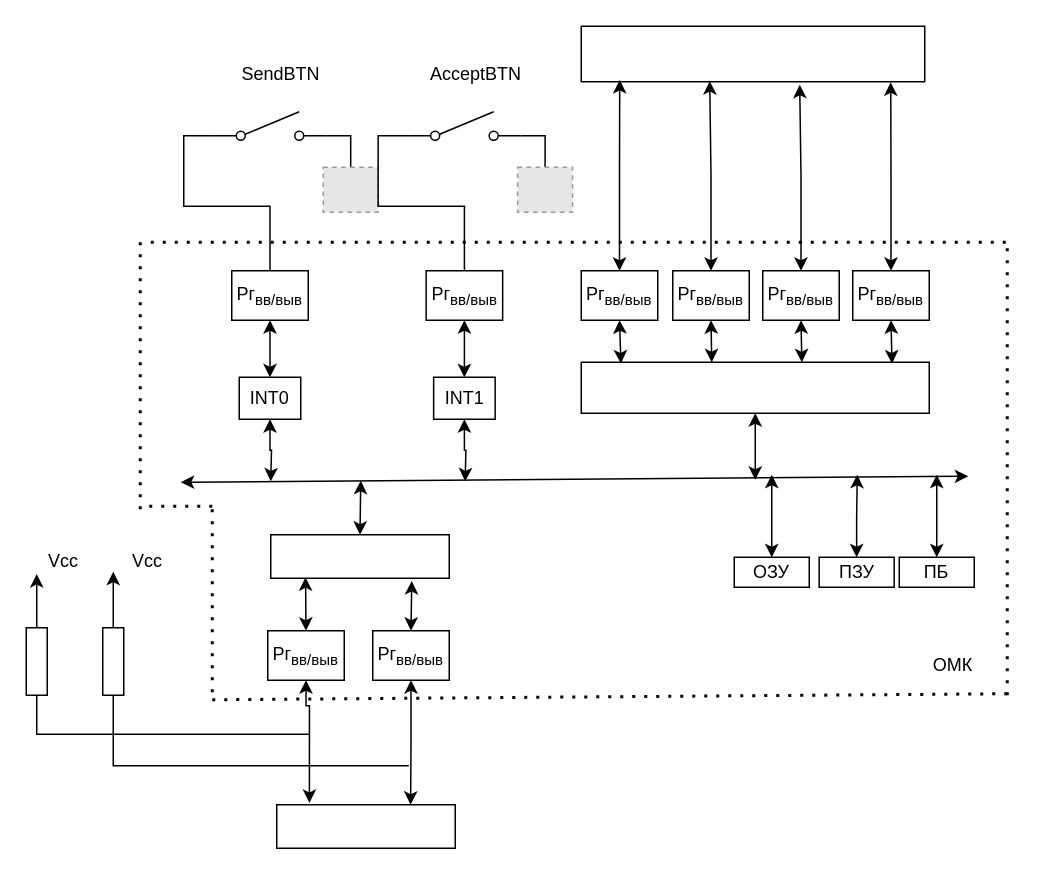
The diagram is 1037 pixels wide and 875 high, and some of its shapes have lost their labels. Grey dashed boxes stand in for pictures. The centre of each missing label's shape, as x and y in pixels:
"I2С" belongs at point 359,555.
"I2С Terminal" belongs at point 365,825.
"SPI" belongs at point 754,387.
"SPI Terminal" belongs at point 752,53.
